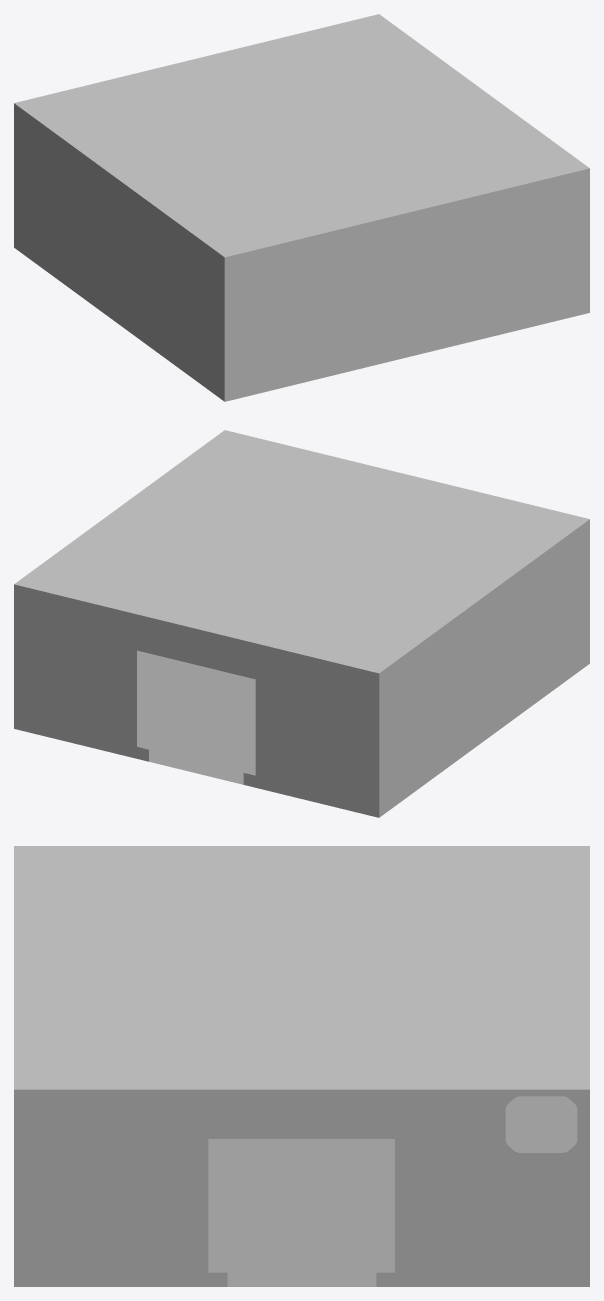
Rendered from small_room.fbx.
3 renders of one model, top to bottom at view 1: azimuth 30°, elevation 25°; view 2: azimuth 150°, elevation 25°; view 3: azimuth 270°, elevation 25°, orthographic. The views are drawn at different scales.
Parts seen in each view (by area): view 1: 큐브.005; view 2: 큐브.005; view 3: 큐브.005.
Boxes of the visible parts, box(x1,y1,x2,y2) form: 큐브.005: box(14, 14, 589, 401); 큐브.005: box(14, 430, 589, 817); 큐브.005: box(14, 846, 589, 1286).
Bounding box in the file's own units: 1052 × 398 × 1052.
